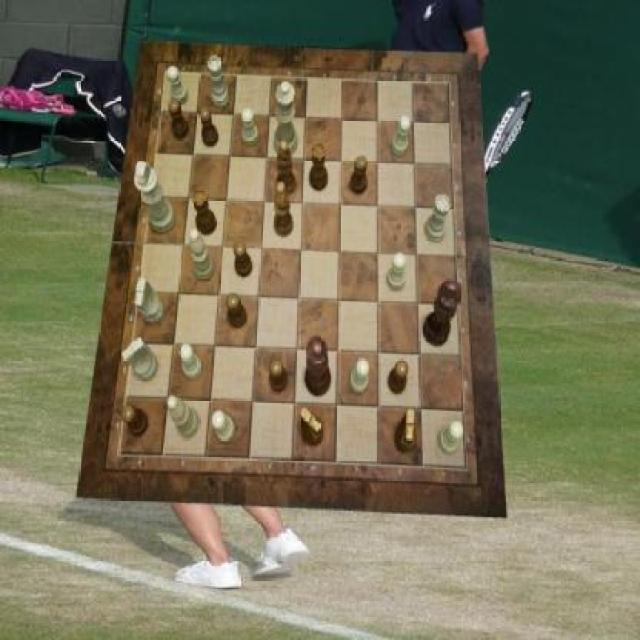bishop: (277, 142, 297, 196), (274, 182, 293, 238)
black-bishop: (423, 280, 461, 348)
black-king: (394, 409, 417, 453), (300, 408, 323, 448)
black-knight: (169, 98, 189, 140), (200, 106, 220, 148), (122, 405, 148, 437), (226, 292, 247, 328), (234, 242, 253, 279), (388, 359, 408, 393), (351, 155, 368, 194), (270, 358, 288, 392)
black-pawn: (304, 337, 332, 397)
black-queen: (192, 190, 217, 236), (310, 143, 328, 192)
black-rook: (168, 395, 200, 438), (189, 229, 214, 282)
white-bishop: (134, 161, 176, 234)
white-king: (121, 338, 158, 381), (136, 278, 166, 324)
white-knight: (439, 420, 463, 455), (392, 115, 412, 157), (180, 344, 203, 380), (168, 66, 188, 105), (212, 411, 236, 443), (386, 252, 406, 290), (351, 359, 371, 393), (242, 108, 259, 146)
white-pawn: (274, 82, 298, 156)
white-queen: (424, 194, 450, 241), (208, 57, 228, 109)
